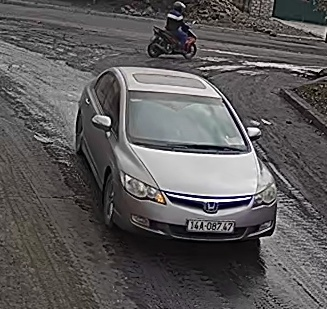vehicle plate: (187, 216, 237, 236)
